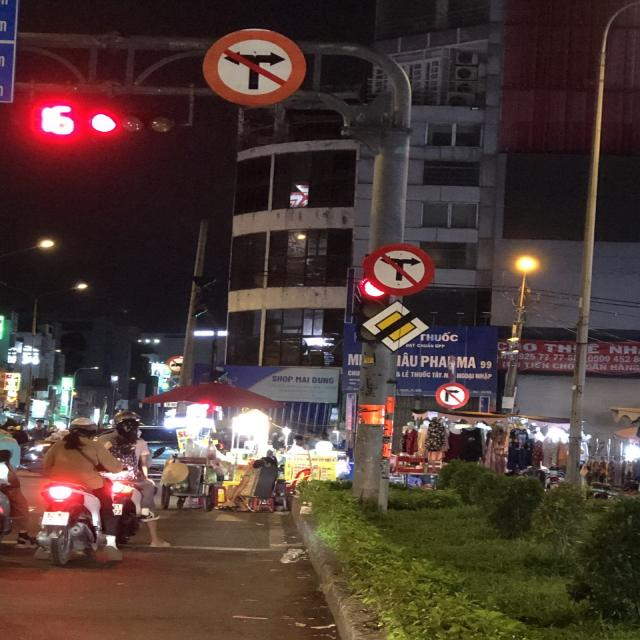Bien bao cam re phai: (434, 381, 472, 411)
